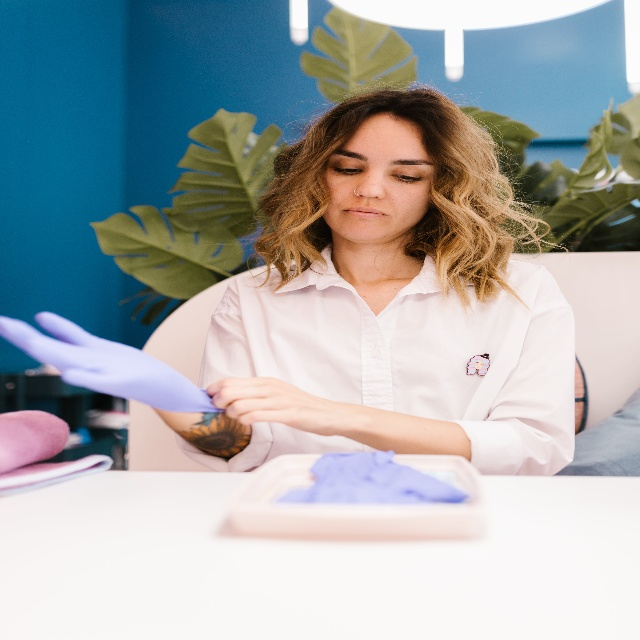Guantes: (0, 302, 201, 428), (296, 446, 467, 529)
Sin_guantes: (0, 309, 151, 408), (203, 368, 326, 432)
